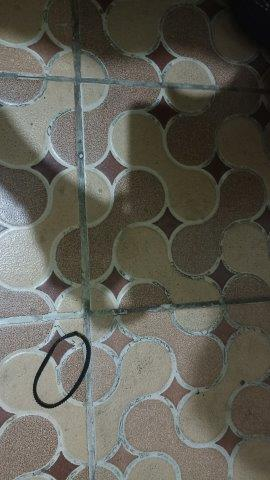karet: (33, 331, 92, 409)
